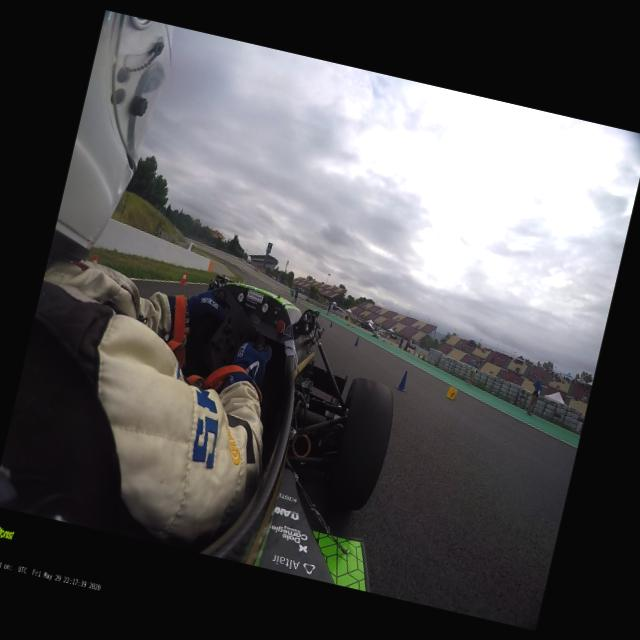blue_cone: (394, 368, 410, 392), (354, 336, 359, 346), (328, 321, 332, 327)
orange_cone: (179, 270, 188, 284), (92, 254, 98, 263)
yellow_cone: (445, 385, 458, 400)
